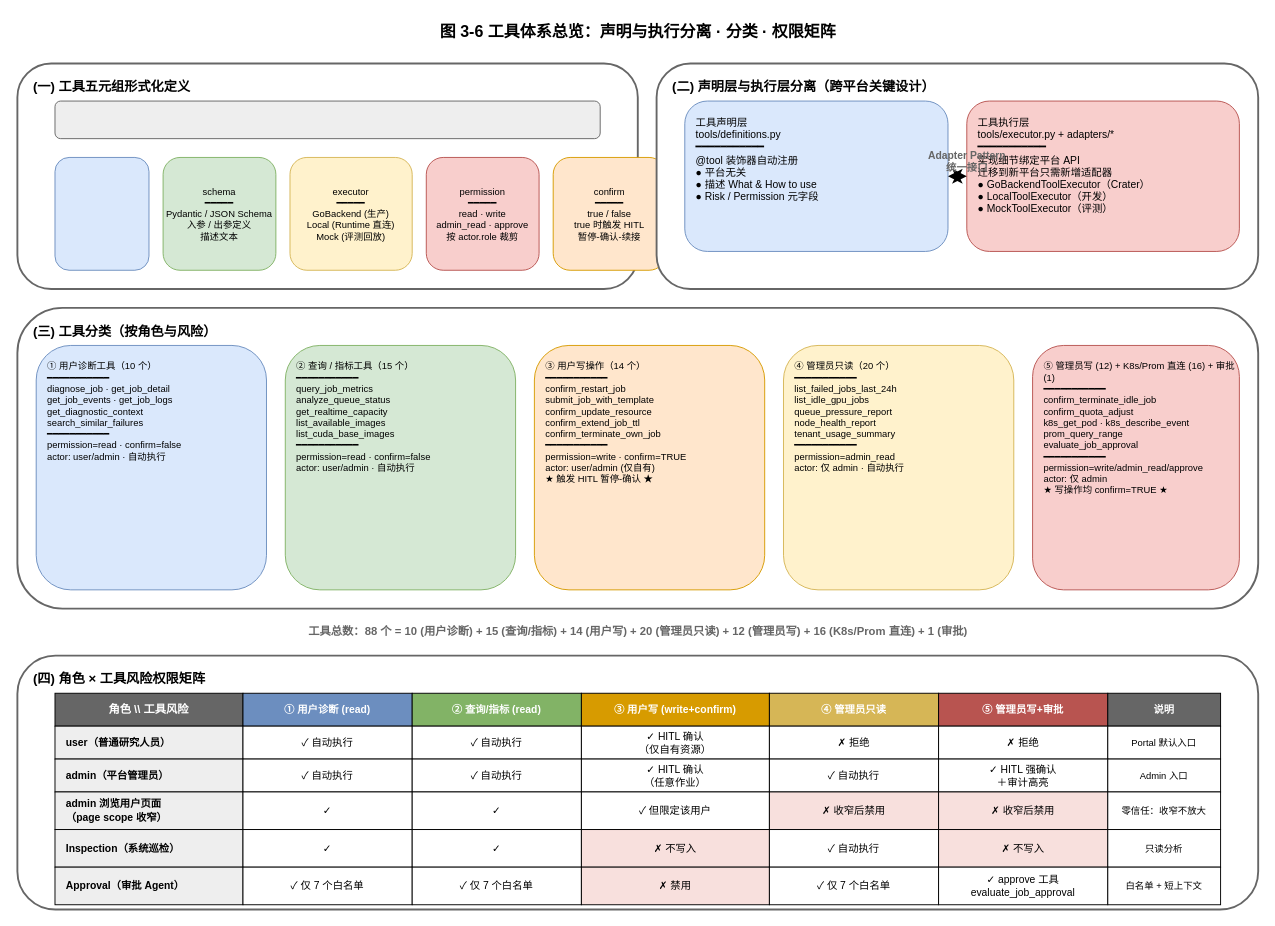
This 1275x926 diagram has some shape labels left out. The shapes that lost their labels are listed below. From the top down, each one's centre as x and y in pixels, then its label:
At (327,119): "T = ( name, schema, executor, permission, confirm )".
At (101,213): "name ━━━━━ 工具名（唯一） 如 diagnose_job".
